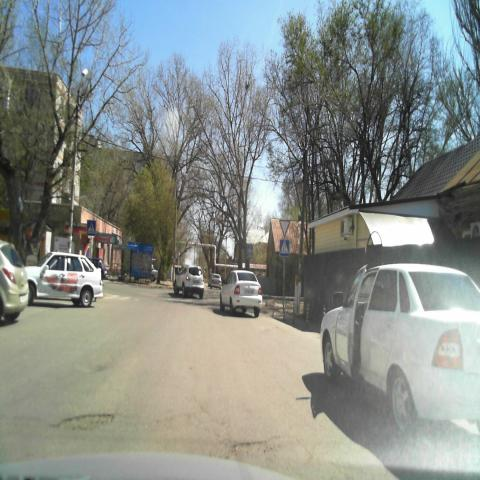5_19_1: (279, 239, 289, 256)
